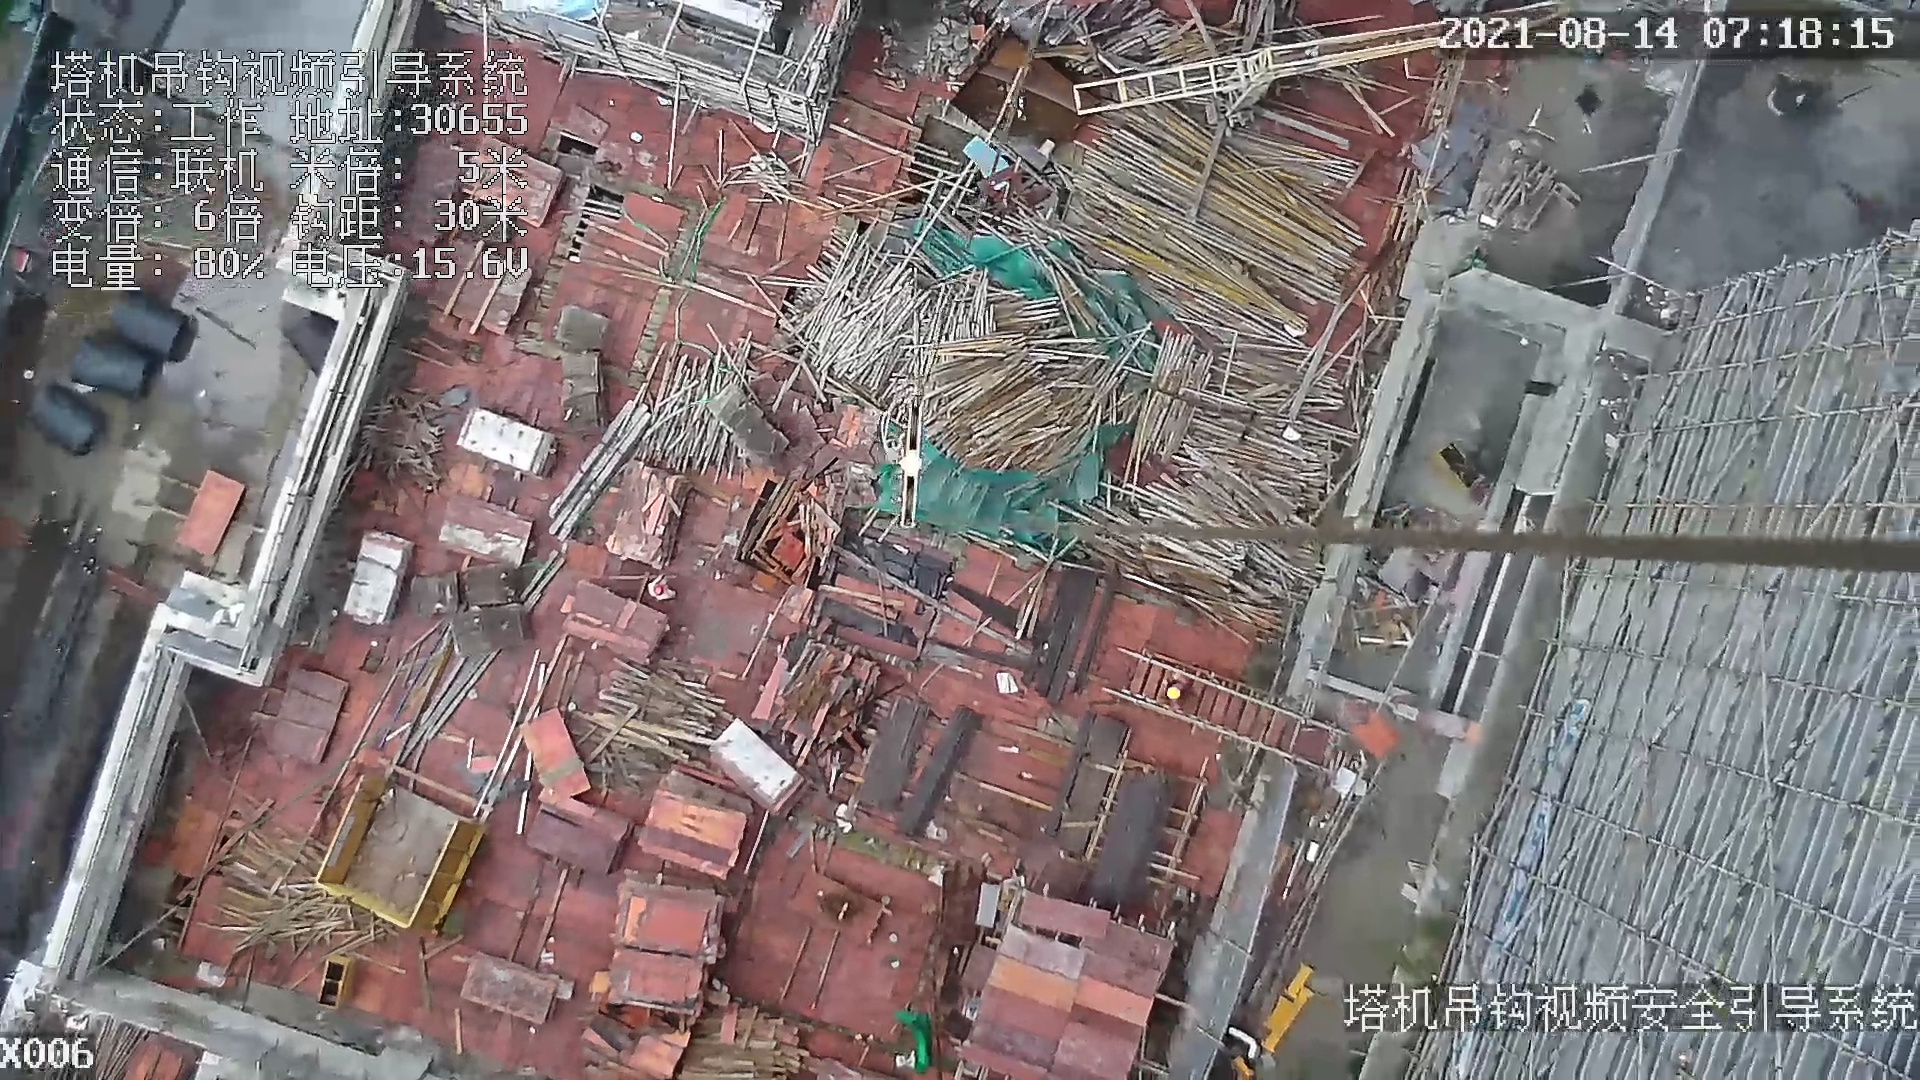helmet: (654, 584, 664, 599)
hook: (885, 399, 928, 531)
person: (651, 572, 679, 603)
